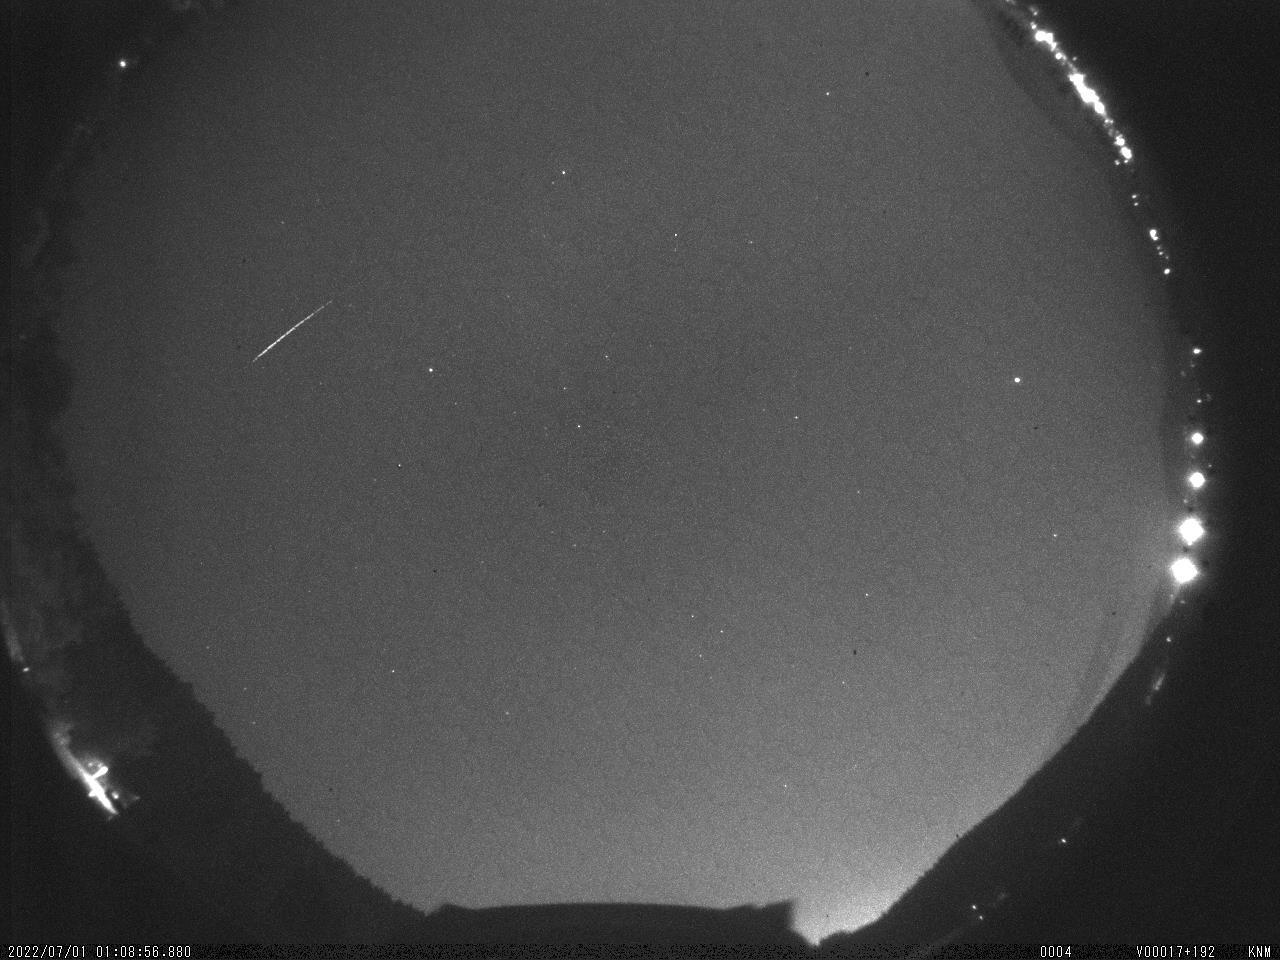Meteor: (248, 294, 332, 365)
